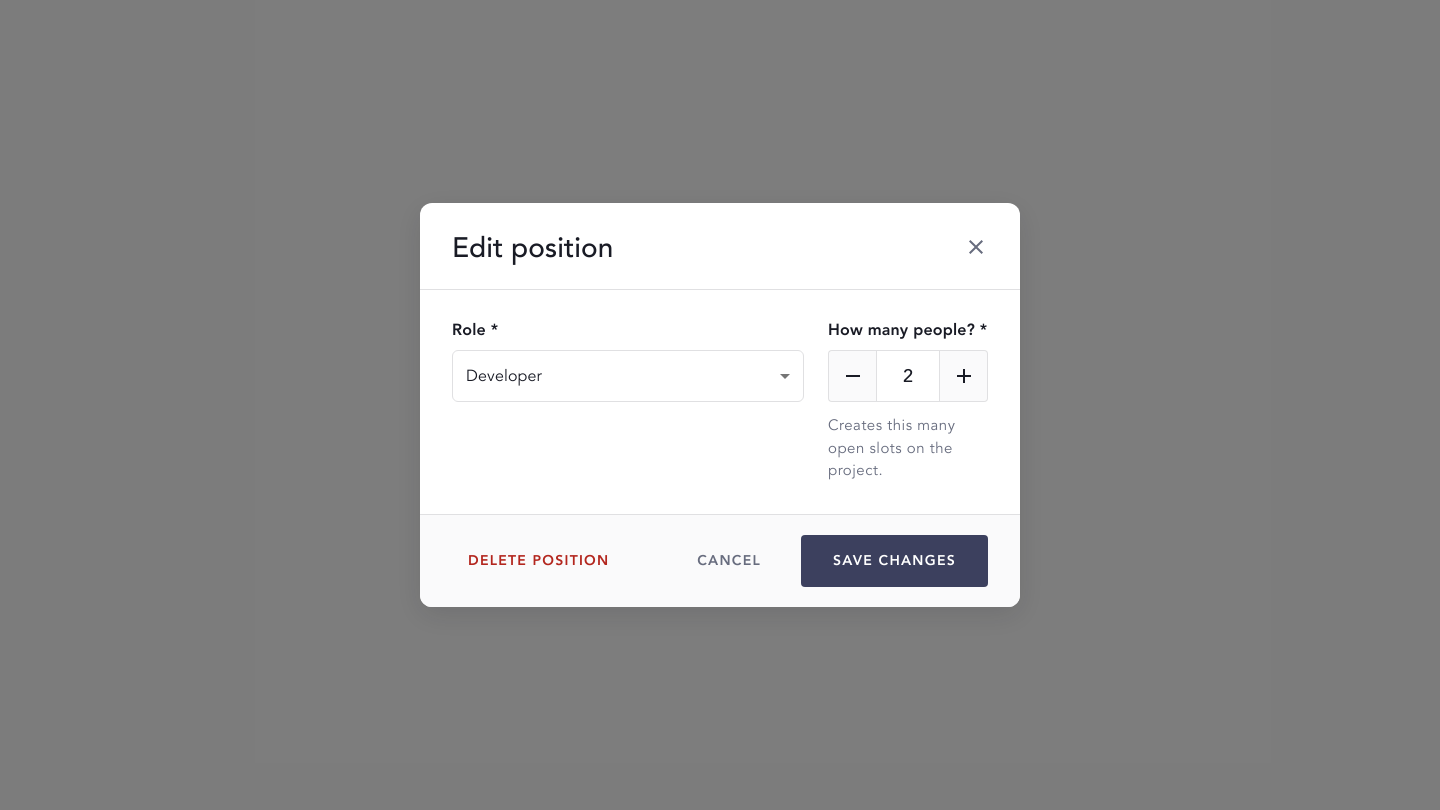
Test: PositionDialog › deleting › asks for confirmation, then deletes and closes
Later steps or results of the test are not shown.
Click the button "Delete position": click(539, 561) 452,542 -> 625,579
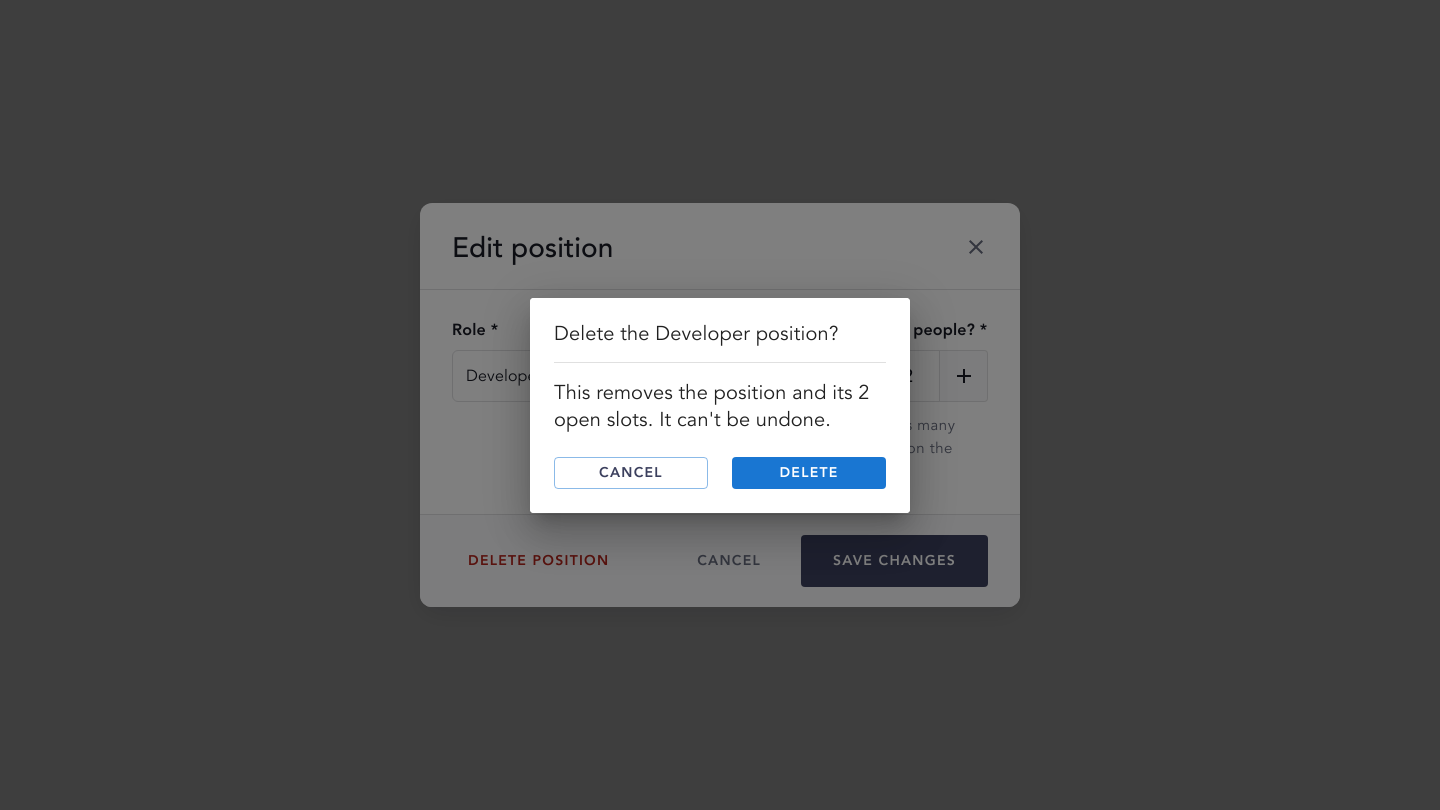
Check: the heading "Delete the Developer position?" is shown, box 554,322 -> 886,346
